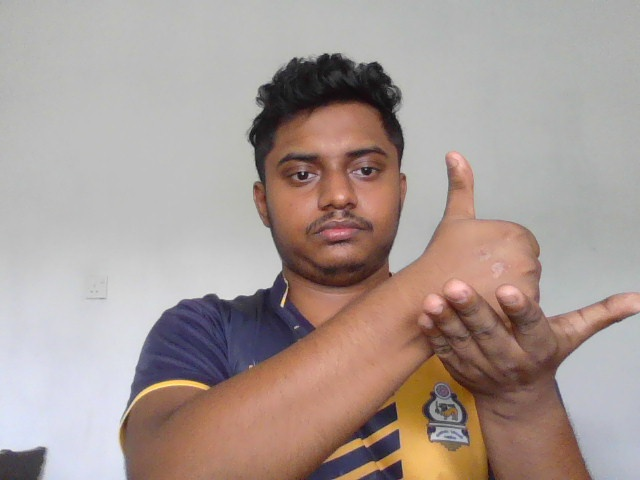Help: (419, 149, 640, 404)
